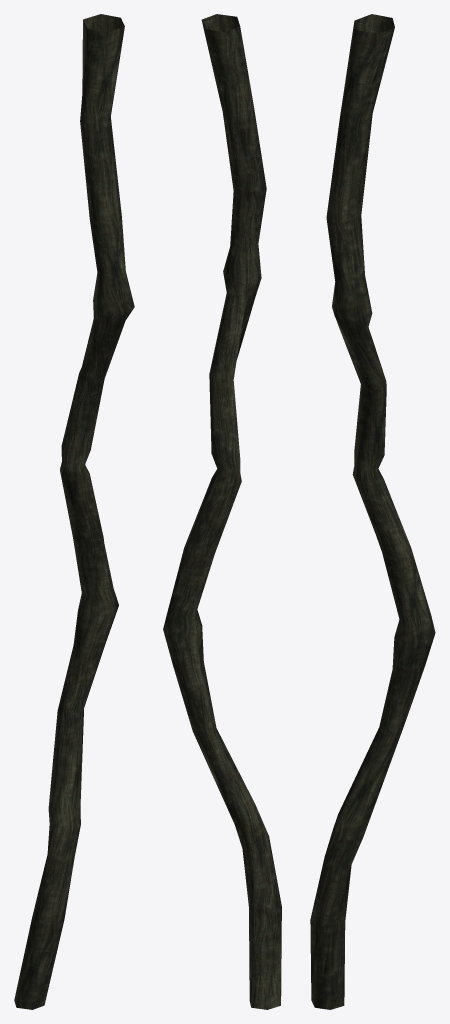
File: Root_large2.fbx
3 renders of one model, left to right at view 1: azimuth 30°, elevation 25°; view 2: azimuth 150°, elevation 25°; view 3: azimuth 330°, elevation 25°, orthographic. The views are drawn at different scales.
Visible parts, largest first — view 1: pCylinder7; view 2: pCylinder7; view 3: pCylinder7.
Boxes of the visible parts, <box> form: pCylinder7: <box>14,14,134,1009</box>; pCylinder7: <box>163,14,281,1009</box>; pCylinder7: <box>310,14,435,1009</box>.
Size of the model in its own units: 3.46 by 29.43 by 3.21.
